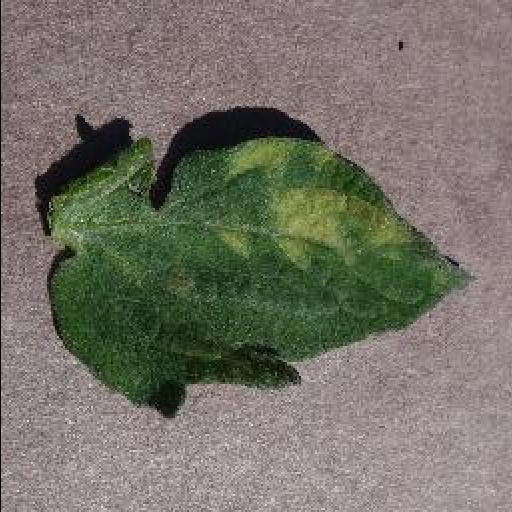disease_tomato: (48, 140, 482, 422)
